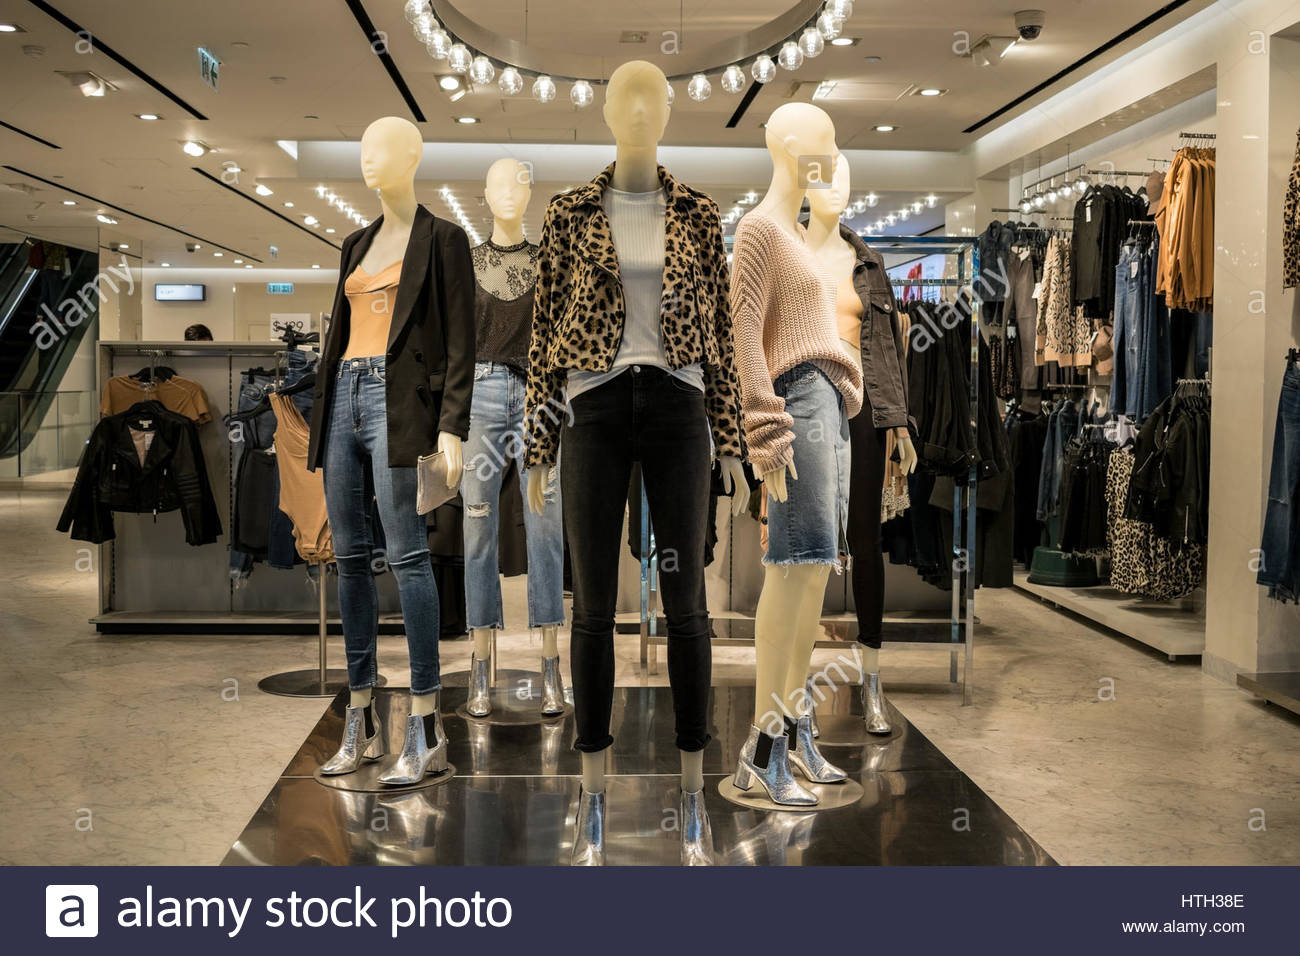person-like: (515, 52, 751, 803), (296, 106, 490, 795), (720, 92, 872, 813), (801, 138, 923, 741), (454, 150, 571, 725)
